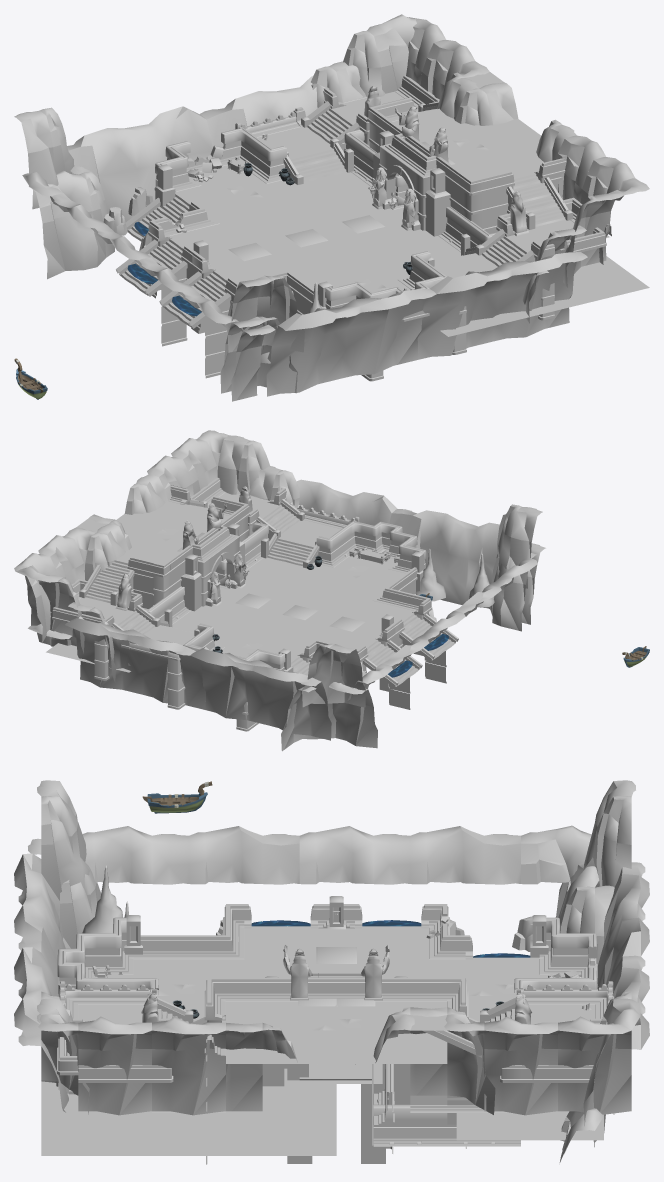
3 renders of one model, top to bottom at view 1: azimuth 30°, elevation 25°; view 2: azimuth 150°, elevation 25°; view 3: azimuth 270°, elevation 25°, orthographic. The views are drawn at different scales.
Visible parts, largest first — view 1: Cave_Cliff_48x02_Filler_01 (×4), Cave_Floor_05 (×17), Cave_Cliff_04x02_Basic (×7), Cave_Cliff_02x02_Basic (×7), Cave_Cliff_02x02_Bottom (×4), Cave_Cliff_02x02_CornerIn (×4), Cave_Water_WaterPlane_02, Cave_Cliff_04x02_Bottom (×2), Cave_Cliff_48x02_Filler_02 (×2), Cave_Prop_Rug_01 (×3), Cave_Stairs_BottomL (×2), Cave_Floor_06 (×3) (+13 smaller); view 2: Cave_Cliff_48x02_Filler_01 (×4), Cave_Floor_05 (×16), Cave_Cliff_04x02_Basic (×6), Cave_Cliff_02x02_Basic (×5), Cave_Cliff_04x02_Bottom (×3), Cave_Cliff_02x02_Bottom (×4), Cave_Cliff_02x02_CornerIn (×4), Cave_Cliff_48x02_Filler_02 (×2), Cave_Prop_Rug_01 (×3), Cave_Wall_01x04_BottomCornerOut (×2), Cave_Cliff_02x02_CornerInBottom, Cave_Wall_04x01_Nook (+9 smaller); view 3: Cave_Cliff_48x02_Filler_02 (×2), Cave_Floor_05 (×12), Cave_Water_WaterPlane_02, Cave_Cliff_04x02_Bottom (×4), Cave_Cliff_04x02_Basic (×8), Cave_Cliff_48x02_Filler_01 (×4), Cave_Wall_02x01_Short (×13), Cave_Cliff_02x02_CornerInBottom (×5), Cave_Cliff_02x02_CornerIn (×5), Cave_Wall_04x01_Basic (×3), Cave_Cliff_02x02_Basic (×5), Cave_Water_WaterPlane_03 (+17 smaller).
Boxes of the visible parts, bbox=[...] form: Cave_Cliff_48x02_Filler_01 (×4): bbox=[67, 76, 587, 396]; Cave_Floor_05 (×17): bbox=[170, 110, 565, 278]; Cave_Cliff_04x02_Basic (×7): bbox=[22, 14, 634, 223]; Cave_Cliff_02x02_Basic (×7): bbox=[14, 61, 576, 352]; Cave_Cliff_02x02_Bottom (×4): bbox=[28, 147, 610, 401]; Cave_Cliff_02x02_CornerIn (×4): bbox=[258, 30, 492, 301]; Cave_Water_WaterPlane_02: bbox=[440, 256, 649, 336]; Cave_Cliff_04x02_Bottom (×2): bbox=[42, 59, 407, 279]; Cave_Cliff_48x02_Filler_02 (×2): bbox=[51, 193, 243, 331]; Cave_Prop_Rug_01 (×3): bbox=[208, 123, 506, 292]; Cave_Stairs_BottomL (×2): bbox=[161, 269, 230, 378]; Cave_Floor_06 (×3): bbox=[195, 180, 405, 268]; Cave_Cliff_48x02_Filler_01 (×4): bbox=[65, 479, 499, 740]; Cave_Floor_05 (×16): bbox=[116, 501, 405, 649]; Cave_Cliff_04x02_Basic (×6): bbox=[14, 438, 216, 646]; Cave_Cliff_02x02_Basic (×5): bbox=[97, 435, 542, 558]; Cave_Cliff_04x02_Bottom (×3): bbox=[27, 585, 377, 748]; Cave_Cliff_02x02_Bottom (×4): bbox=[217, 466, 531, 707]; Cave_Cliff_02x02_CornerIn (×4): bbox=[85, 440, 299, 564]; Cave_Cliff_48x02_Filler_02 (×2): bbox=[372, 558, 537, 682]; Cave_Prop_Rug_01 (×3): bbox=[135, 517, 377, 657]; Cave_Wall_01x04_BottomCornerOut (×2): bbox=[94, 639, 185, 709]; Cave_Cliff_02x02_CornerInBottom: bbox=[302, 660, 344, 707]; Cave_Wall_04x01_Nook: bbox=[359, 521, 405, 558]; Cave_Cliff_48x02_Filler_02 (×2): bbox=[82, 826, 520, 884]; Cave_Floor_05 (×12): bbox=[78, 928, 594, 1063]; Cave_Water_WaterPlane_02: bbox=[41, 1068, 336, 1155]; Cave_Cliff_04x02_Bottom (×4): bbox=[78, 1048, 631, 1115]; Cave_Cliff_04x02_Basic (×8): bbox=[78, 825, 640, 1162]; Cave_Cliff_48x02_Filler_01 (×4): bbox=[14, 853, 649, 1147]; Cave_Wall_02x01_Short (×13): bbox=[78, 935, 594, 1112]; Cave_Cliff_02x02_CornerInBottom (×5): bbox=[41, 830, 631, 1114]; Cave_Cliff_02x02_CornerIn (×5): bbox=[41, 796, 631, 1062]; Cave_Wall_04x01_Basic (×3): bbox=[373, 1064, 520, 1146]; Cave_Cliff_02x02_Basic (×5): bbox=[37, 780, 635, 1062]; Cave_Water_WaterPlane_03: bbox=[456, 1111, 603, 1140].
Bounding box in the file's own units: 92.5 × 26.95 × 68.95.
